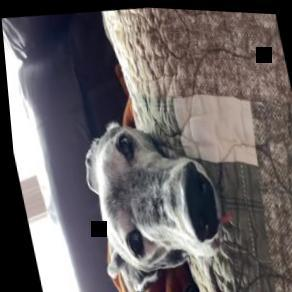nasal_discharge: (195, 201, 238, 239)
